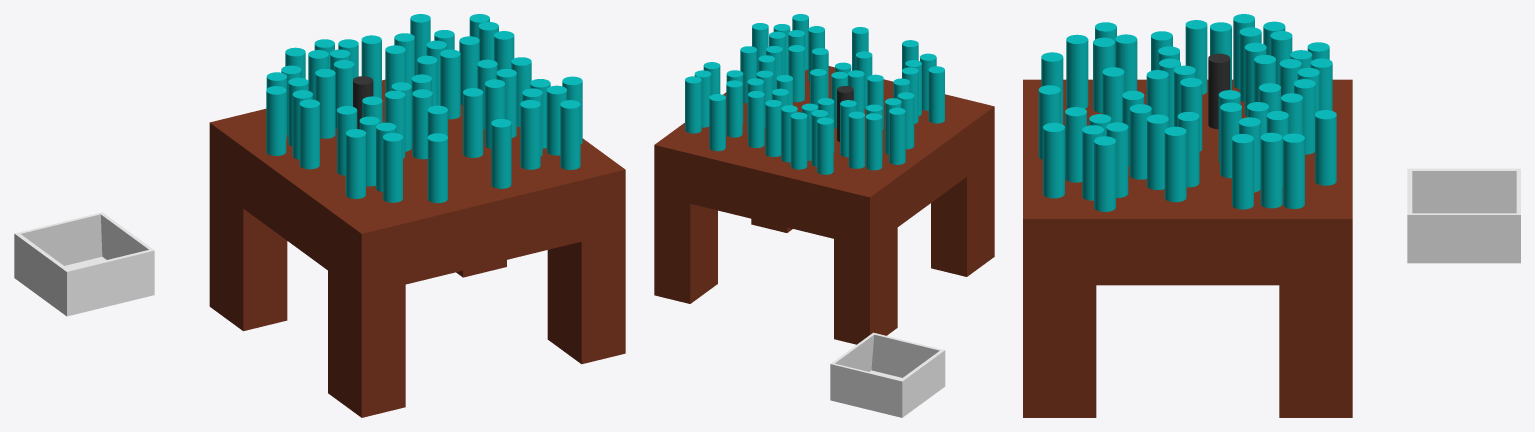
The model's file is can_world_50_cans.dae.
3 views of the same model, side by side, from view 1: azimuth 30°, elevation 25°; view 2: azimuth 150°, elevation 25°; view 3: azimuth 270°, elevation 25° (orthographic). The views are drawn at different scales.
Visible parts, largest first — view 1: base (×40), SketchUp (×2); view 2: base (×44), SketchUp (×2); view 3: base (×44), SketchUp (×2).
Boxes of the visible parts, box(x1,y1,x2,y2) form: base (×40): box(209, 14, 625, 417); SketchUp (×2): box(14, 212, 154, 316); base (×44): box(654, 14, 994, 344); SketchUp (×2): box(830, 332, 945, 417); base (×44): box(1023, 14, 1352, 417); SketchUp (×2): box(1407, 168, 1520, 263).
Bounding box in the file's own units: 1.3 × 1.36 × 0.811.
